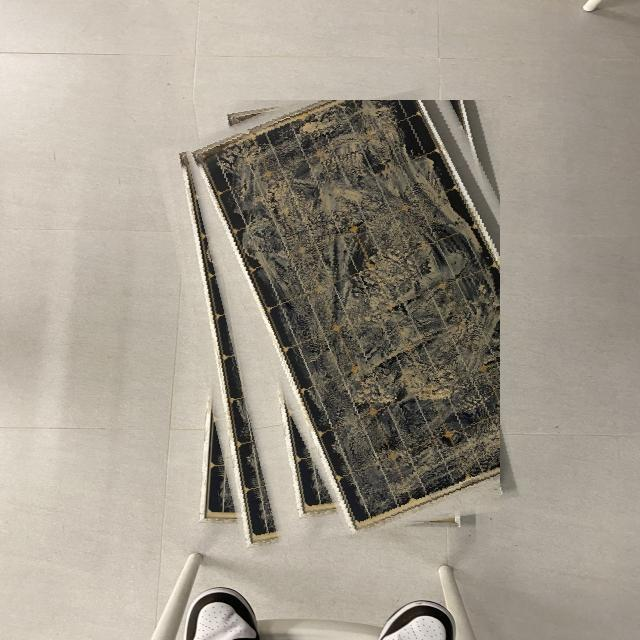Surface Contaminant: (174, 100, 500, 546)
